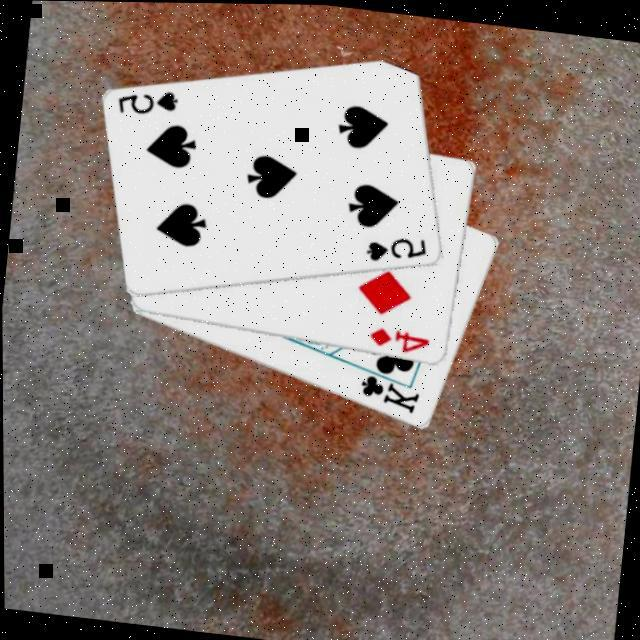4D: (364, 320, 432, 354)
5S: (112, 79, 180, 120), (362, 226, 429, 267)
KC: (351, 358, 423, 414)
